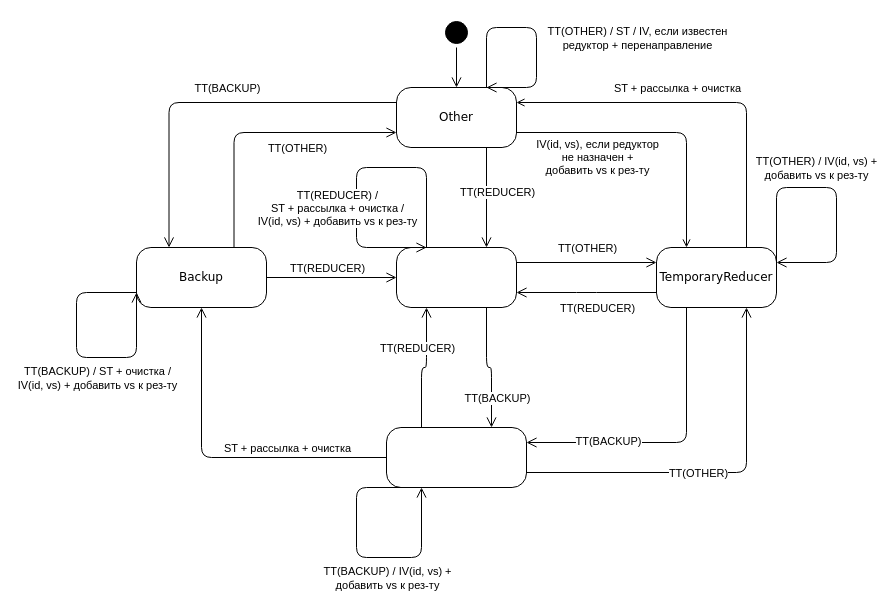
The diagram is 894 pixels wide and 608 high, and some of its shapes have lost their labels. The shapes that lost their labels are listed below. From the top down, each one's box as (x1, y1, x2, y2) in pixels, then its label:
(396, 246, 516, 308): Reducer
(386, 426, 526, 488): PreBackup
